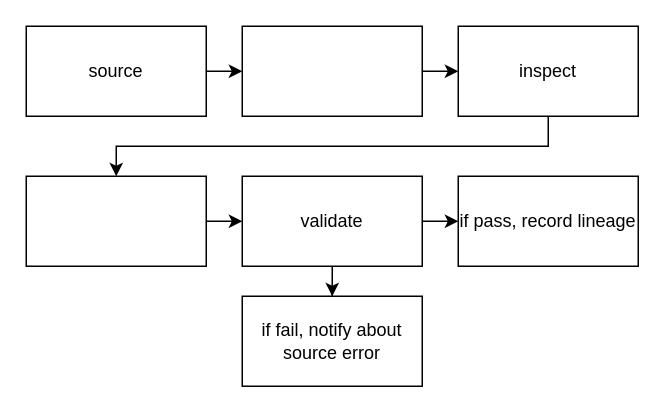
The diagram is 665 pixels wide and 413 high, and some of its shapes have lost their labels. The centre of each missing label's shape, as x and y in pixels:
"ingest" belongs at point 331,70.
"prepare" belongs at point 115,220.
